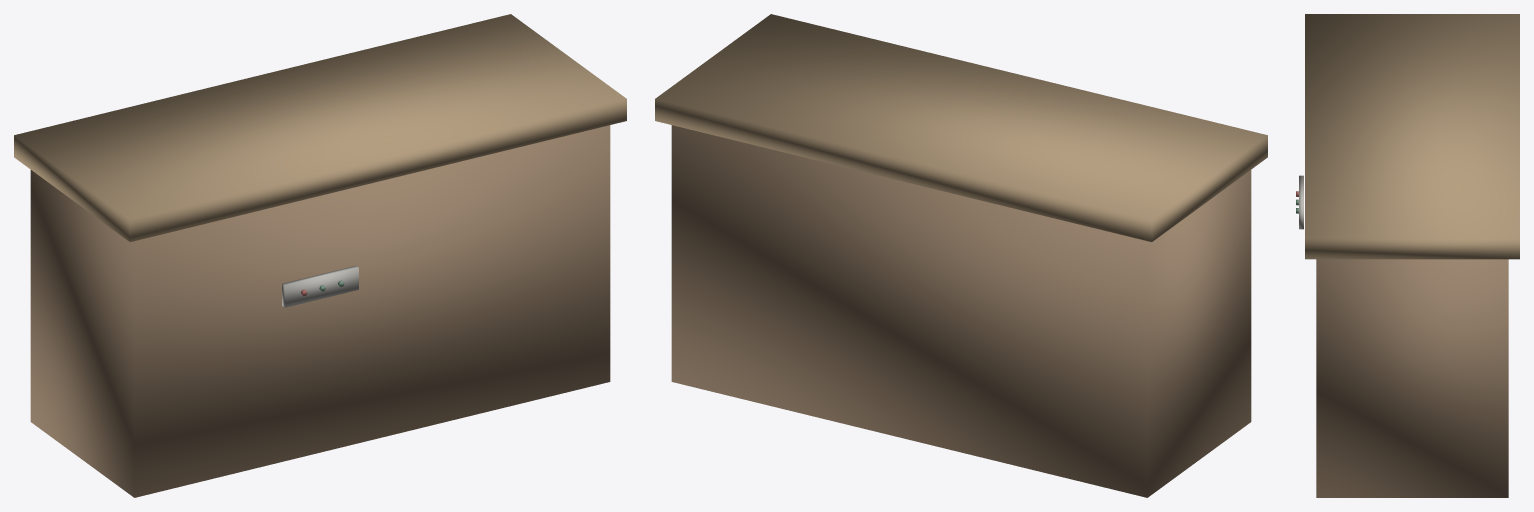
The model's file is clinic_reception_counter.glb.
3 views of the same model, side by side, from view 1: azimuth 30°, elevation 25°; view 2: azimuth 150°, elevation 25°; view 3: azimuth 270°, elevation 25° (orthographic). The views are drawn at different scales.
Visible parts, largest first — view 1: world; view 2: world; view 3: world.
Part boxes in pixels (x1,y1,x2,y2): world: (14,14,626,497); world: (655,14,1267,497); world: (1296,14,1519,497).
Bounding box in the file's own units: 1.88 × 1.03 × 0.791.
